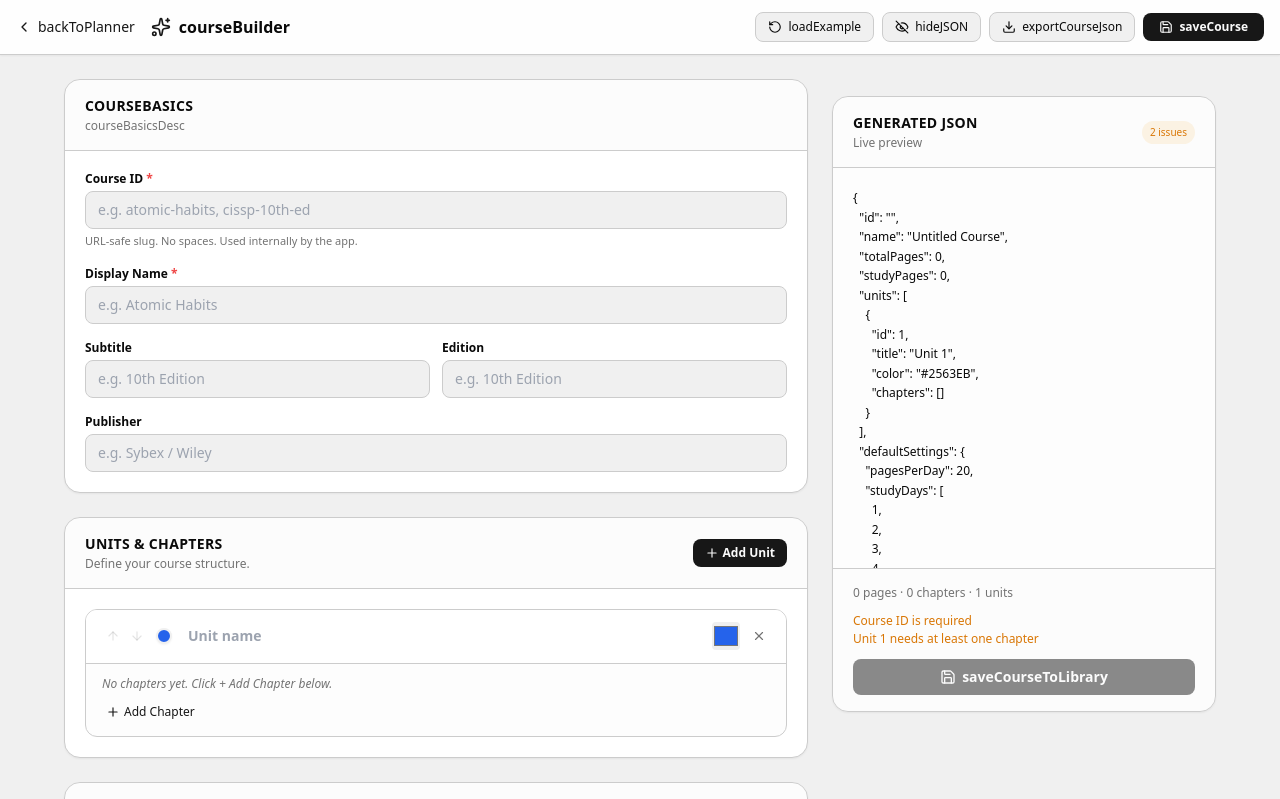
Test: CourseBuilder › toggles showPreview when hideJSON/showJSON is clicked
Click the button "hideJSON": (932, 27) [882, 12, 981, 42]
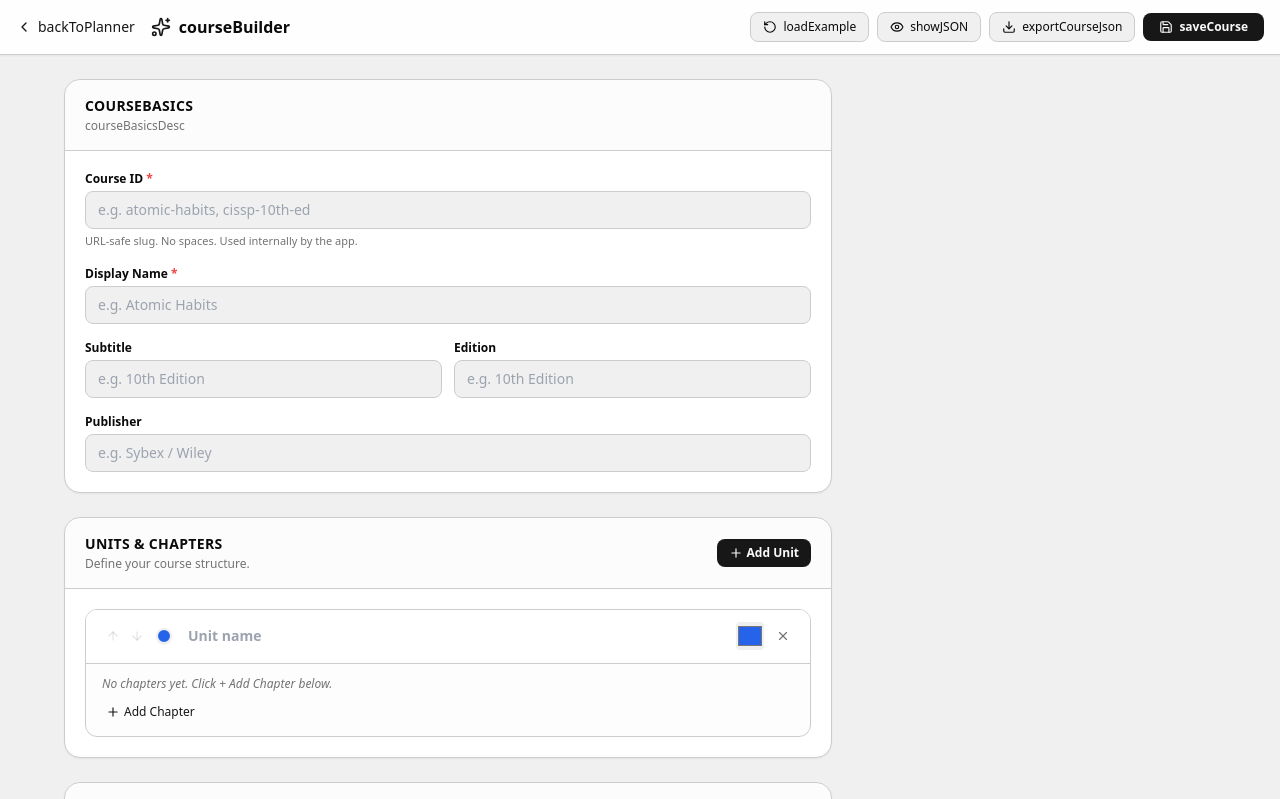
Result: the button "showJSON" is shown at [877, 12, 981, 42]
Result: the button "hideJSON" is gone
